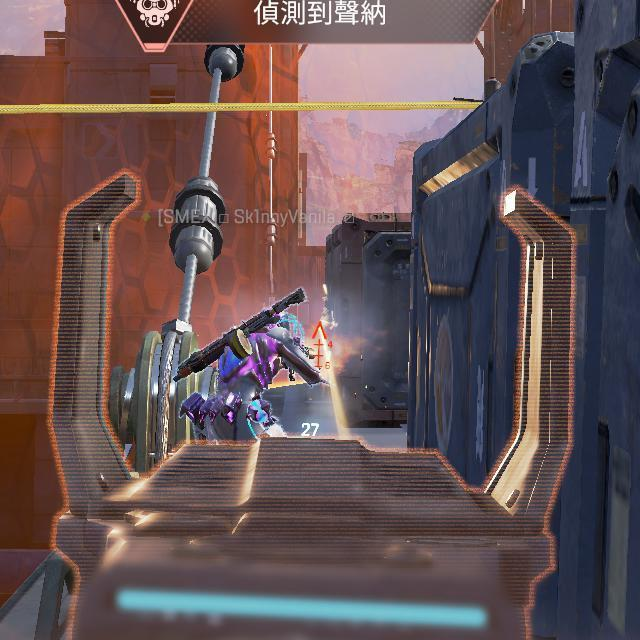avatar: (184, 301, 312, 442)
